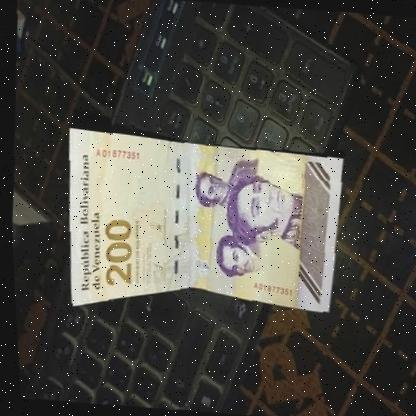two_hundred-front-vef: (52, 127, 349, 329)
